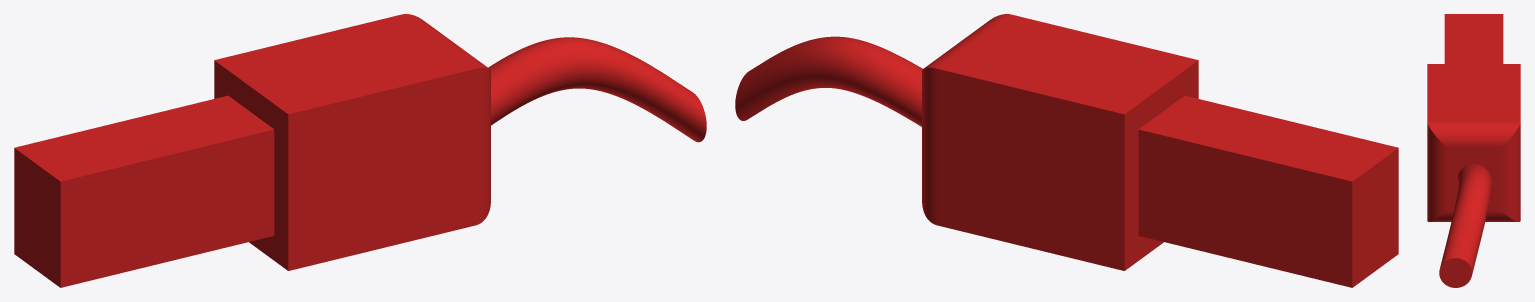
Rendered from 4_colored.obj.
The picture shows the model from 3 angles, left to right: view 1: azimuth 30°, elevation 25°; view 2: azimuth 150°, elevation 25°; view 3: azimuth 270°, elevation 25°; orthographic projection. The views are drawn at different scales.
Size of the model in its own units: 0.06 by 0.014 by 0.012.
